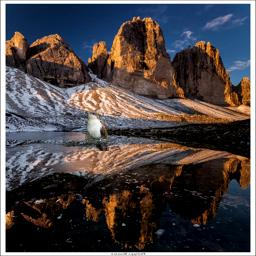Cuckoo: (85, 111, 109, 151)
